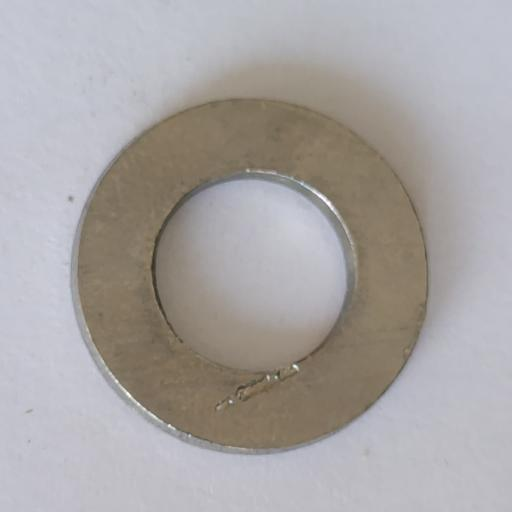scratch: (215, 365, 301, 412)
